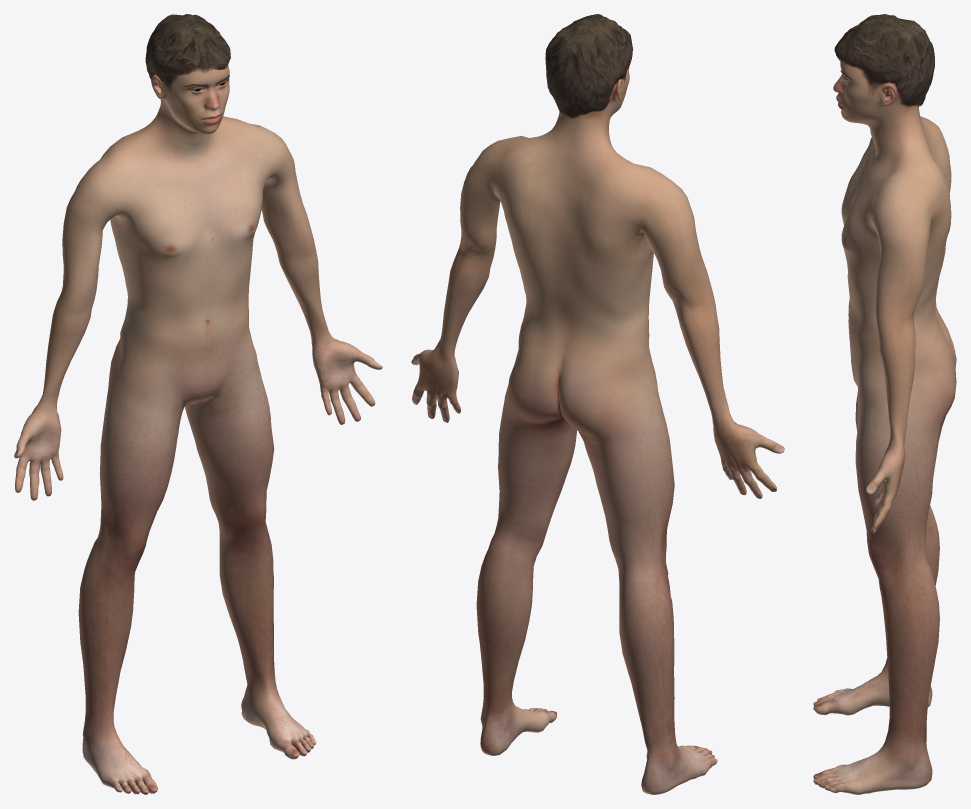
File: Men_final.glb
3 views of the same model, side by side, from view 1: azimuth 30°, elevation 25°; view 2: azimuth 150°, elevation 25°; view 3: azimuth 270°, elevation 25° (orthographic).
Visible parts, largest first — view 1: Human, Human.short02; view 2: Human, Human.short02; view 3: Human, Human.short02.
Part boxes in pixels (x1,y1,x2,y2): Human: (14, 65, 382, 794); Human.short02: (145, 14, 230, 91); Human: (411, 67, 784, 794); Human.short02: (545, 14, 632, 118); Human: (813, 60, 956, 794); Human.short02: (834, 14, 934, 106).
Bounding box in the file's own units: 0.9126 × 1.74 × 0.3106.
Materials: 4 (4 with a texture image).
